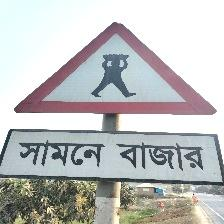Market-in-front: (10, 22, 222, 187)
